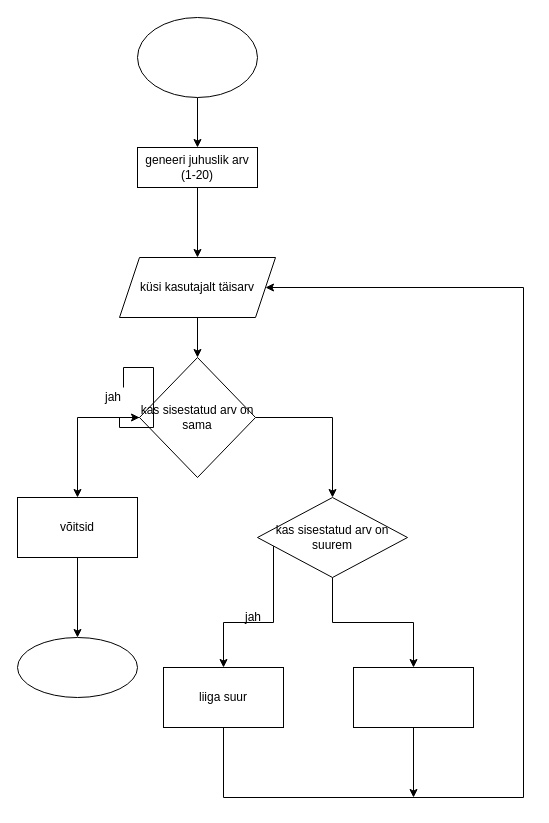
Some shapes in this 549 by 823 pixel diagram are drawn without their labels. The centre of each missing label's shape, as x and y in pixels:
"ALGUS" goes at (197,57).
"liiga väike" goes at (413,697).
"programm lõppeb" goes at (77,667).
